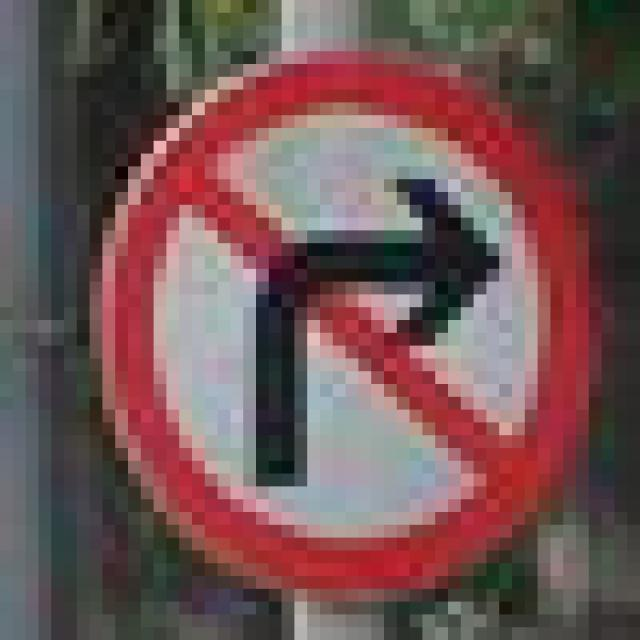right turn prohibited: (92, 36, 609, 601)
